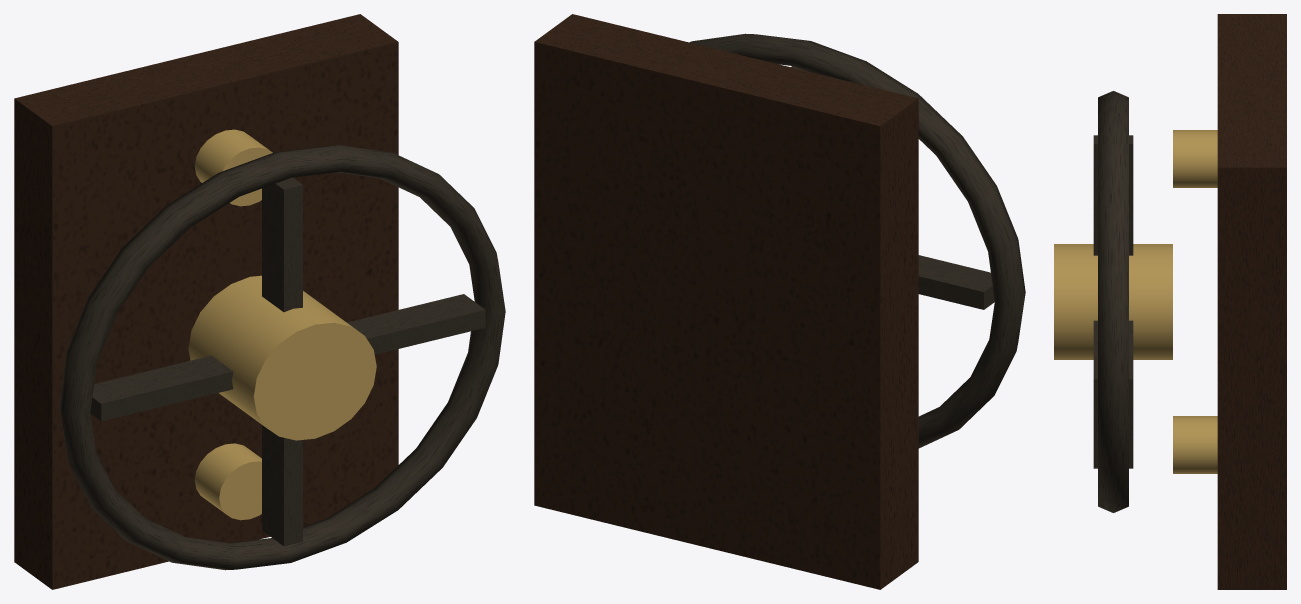
3 renders of one model, left to right at view 1: azimuth 30°, elevation 25°; view 2: azimuth 150°, elevation 25°; view 3: azimuth 270°, elevation 25°, orthographic. The views are drawn at different scales.
Visible parts, largest first — view 1: c-m; view 2: c-m; view 3: c-m.
Boxes of the visible parts, x1=… form: c-m: x1=14, y1=14, x2=505, y2=589; c-m: x1=534, y1=14, x2=1025, y2=589; c-m: x1=1054, y1=14, x2=1286, y2=589.
Bounding box in the file's own units: 0.26 × 0.26 × 0.13.
Materials: 3 (2 with a texture image).
